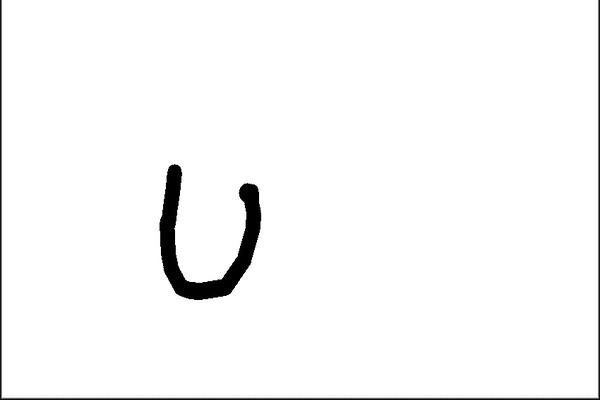U: (144, 158, 286, 300)
